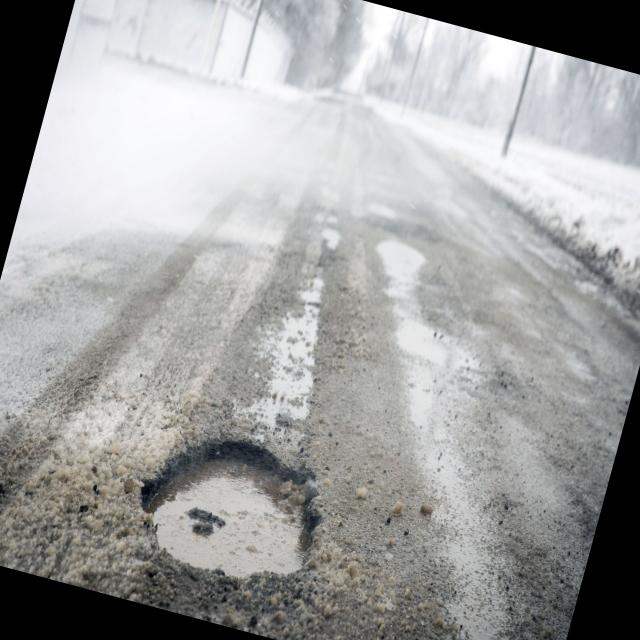Potholes: (104, 398, 347, 640)
